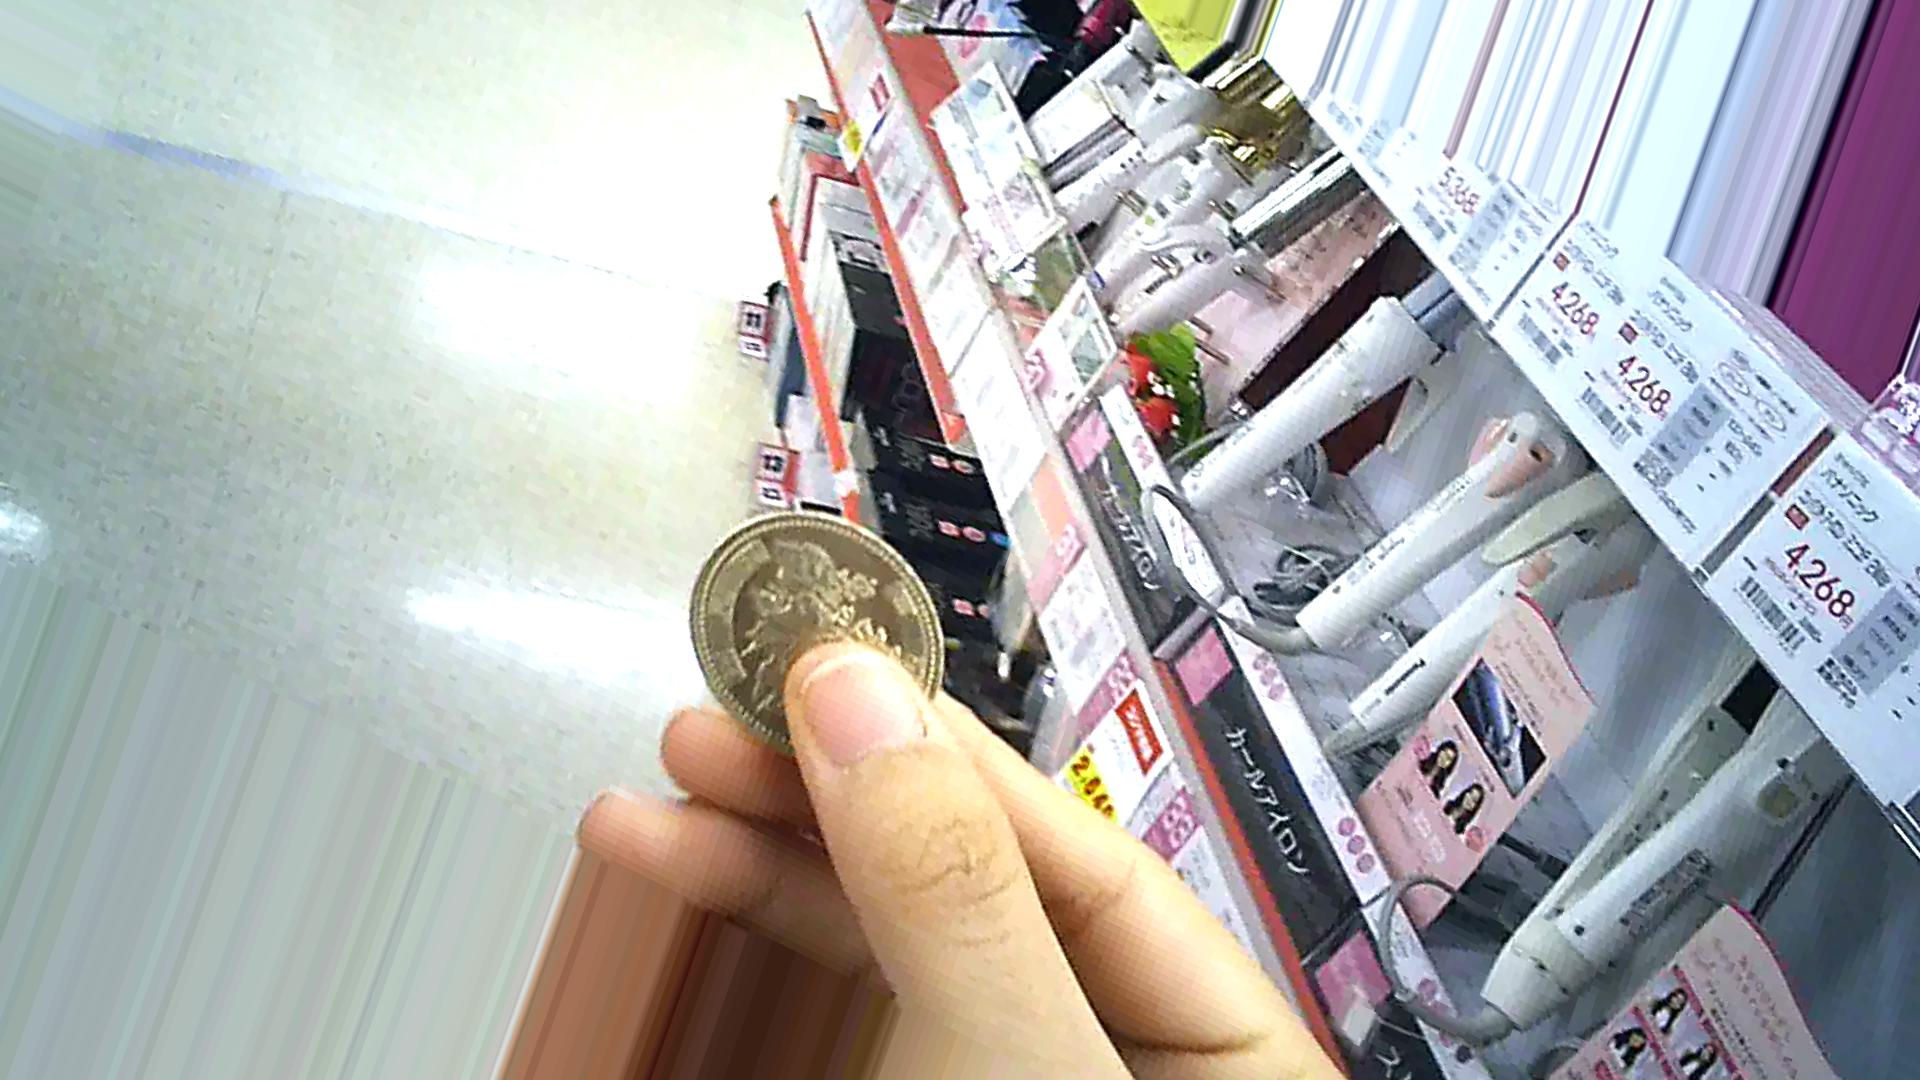500 Yen: (688, 502, 942, 752)
